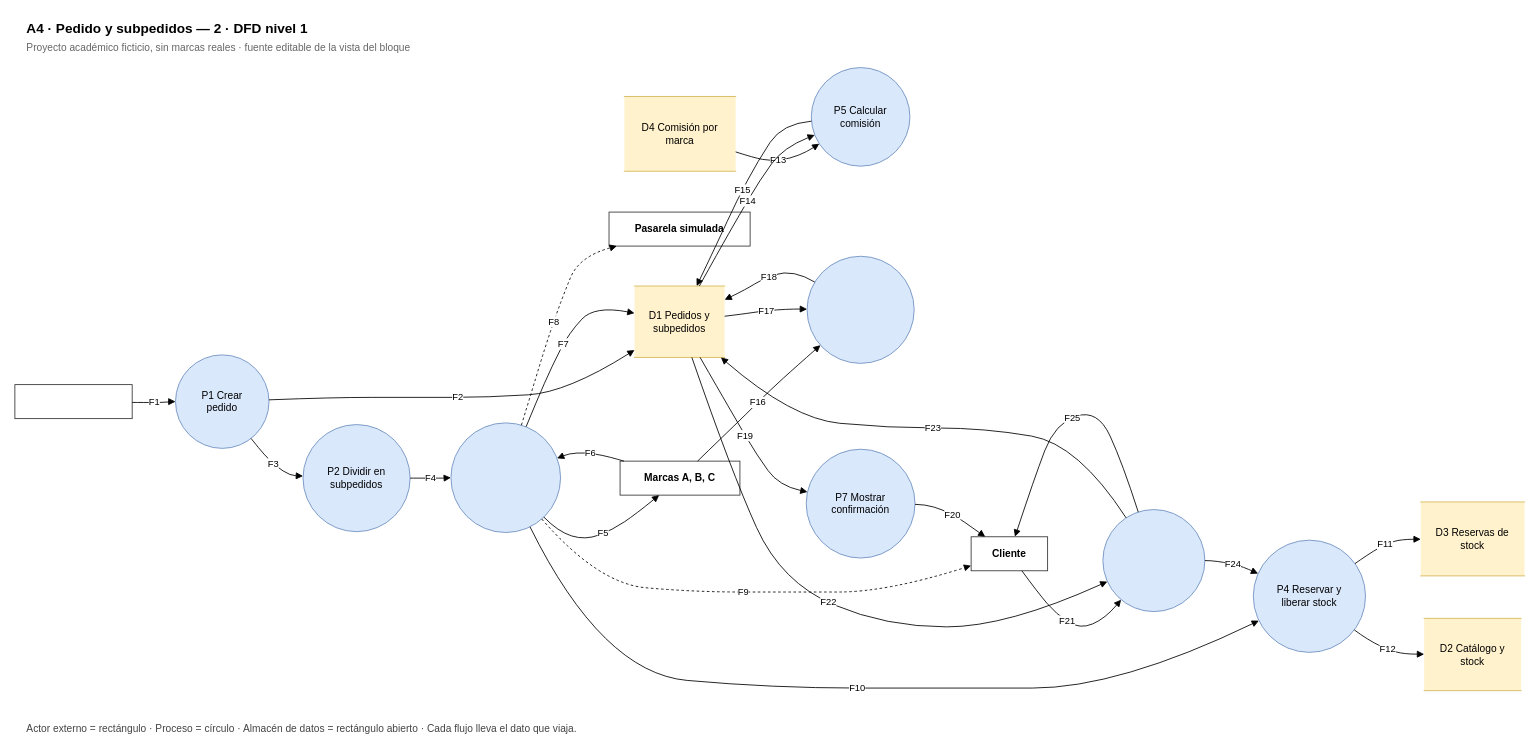
Some shapes in this 1539 by 751 pixel diagram are drawn without their labels. Here are the shapes that lost their labels. From the top down, the centre of each, then its label:
the point at 860,309: P6 Gestionar estados
the point at 73,401: Checkout (A3)
the point at 505,477: P3 Confirmar todo o nada
the point at 1153,560: P8 Cancelar
